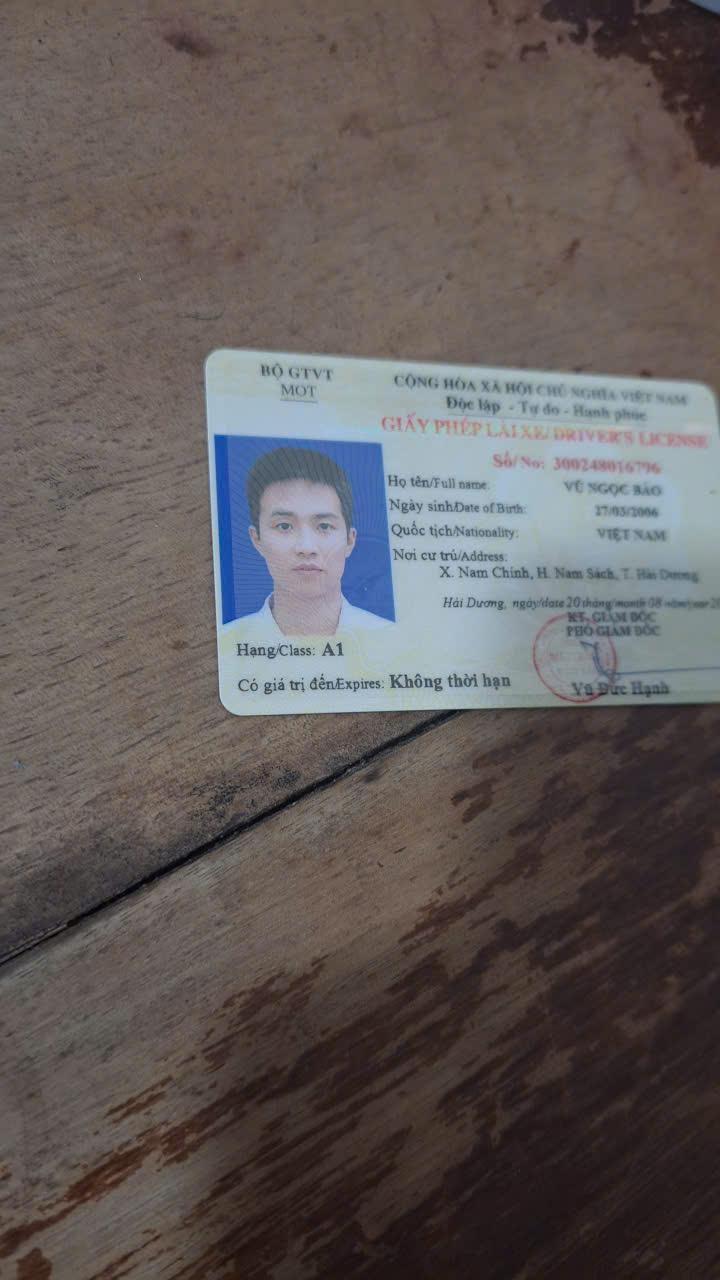gplx: (200, 349, 720, 728)
